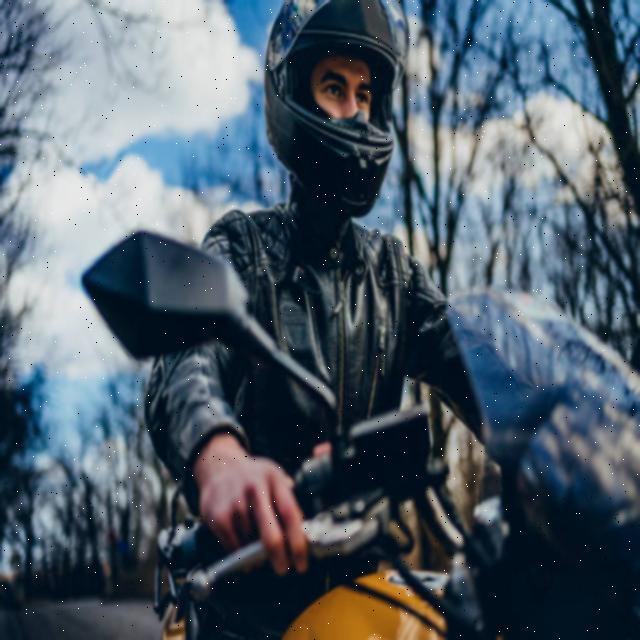not_triplets: (105, 1, 580, 640)
with-helmet: (262, 0, 424, 221)
